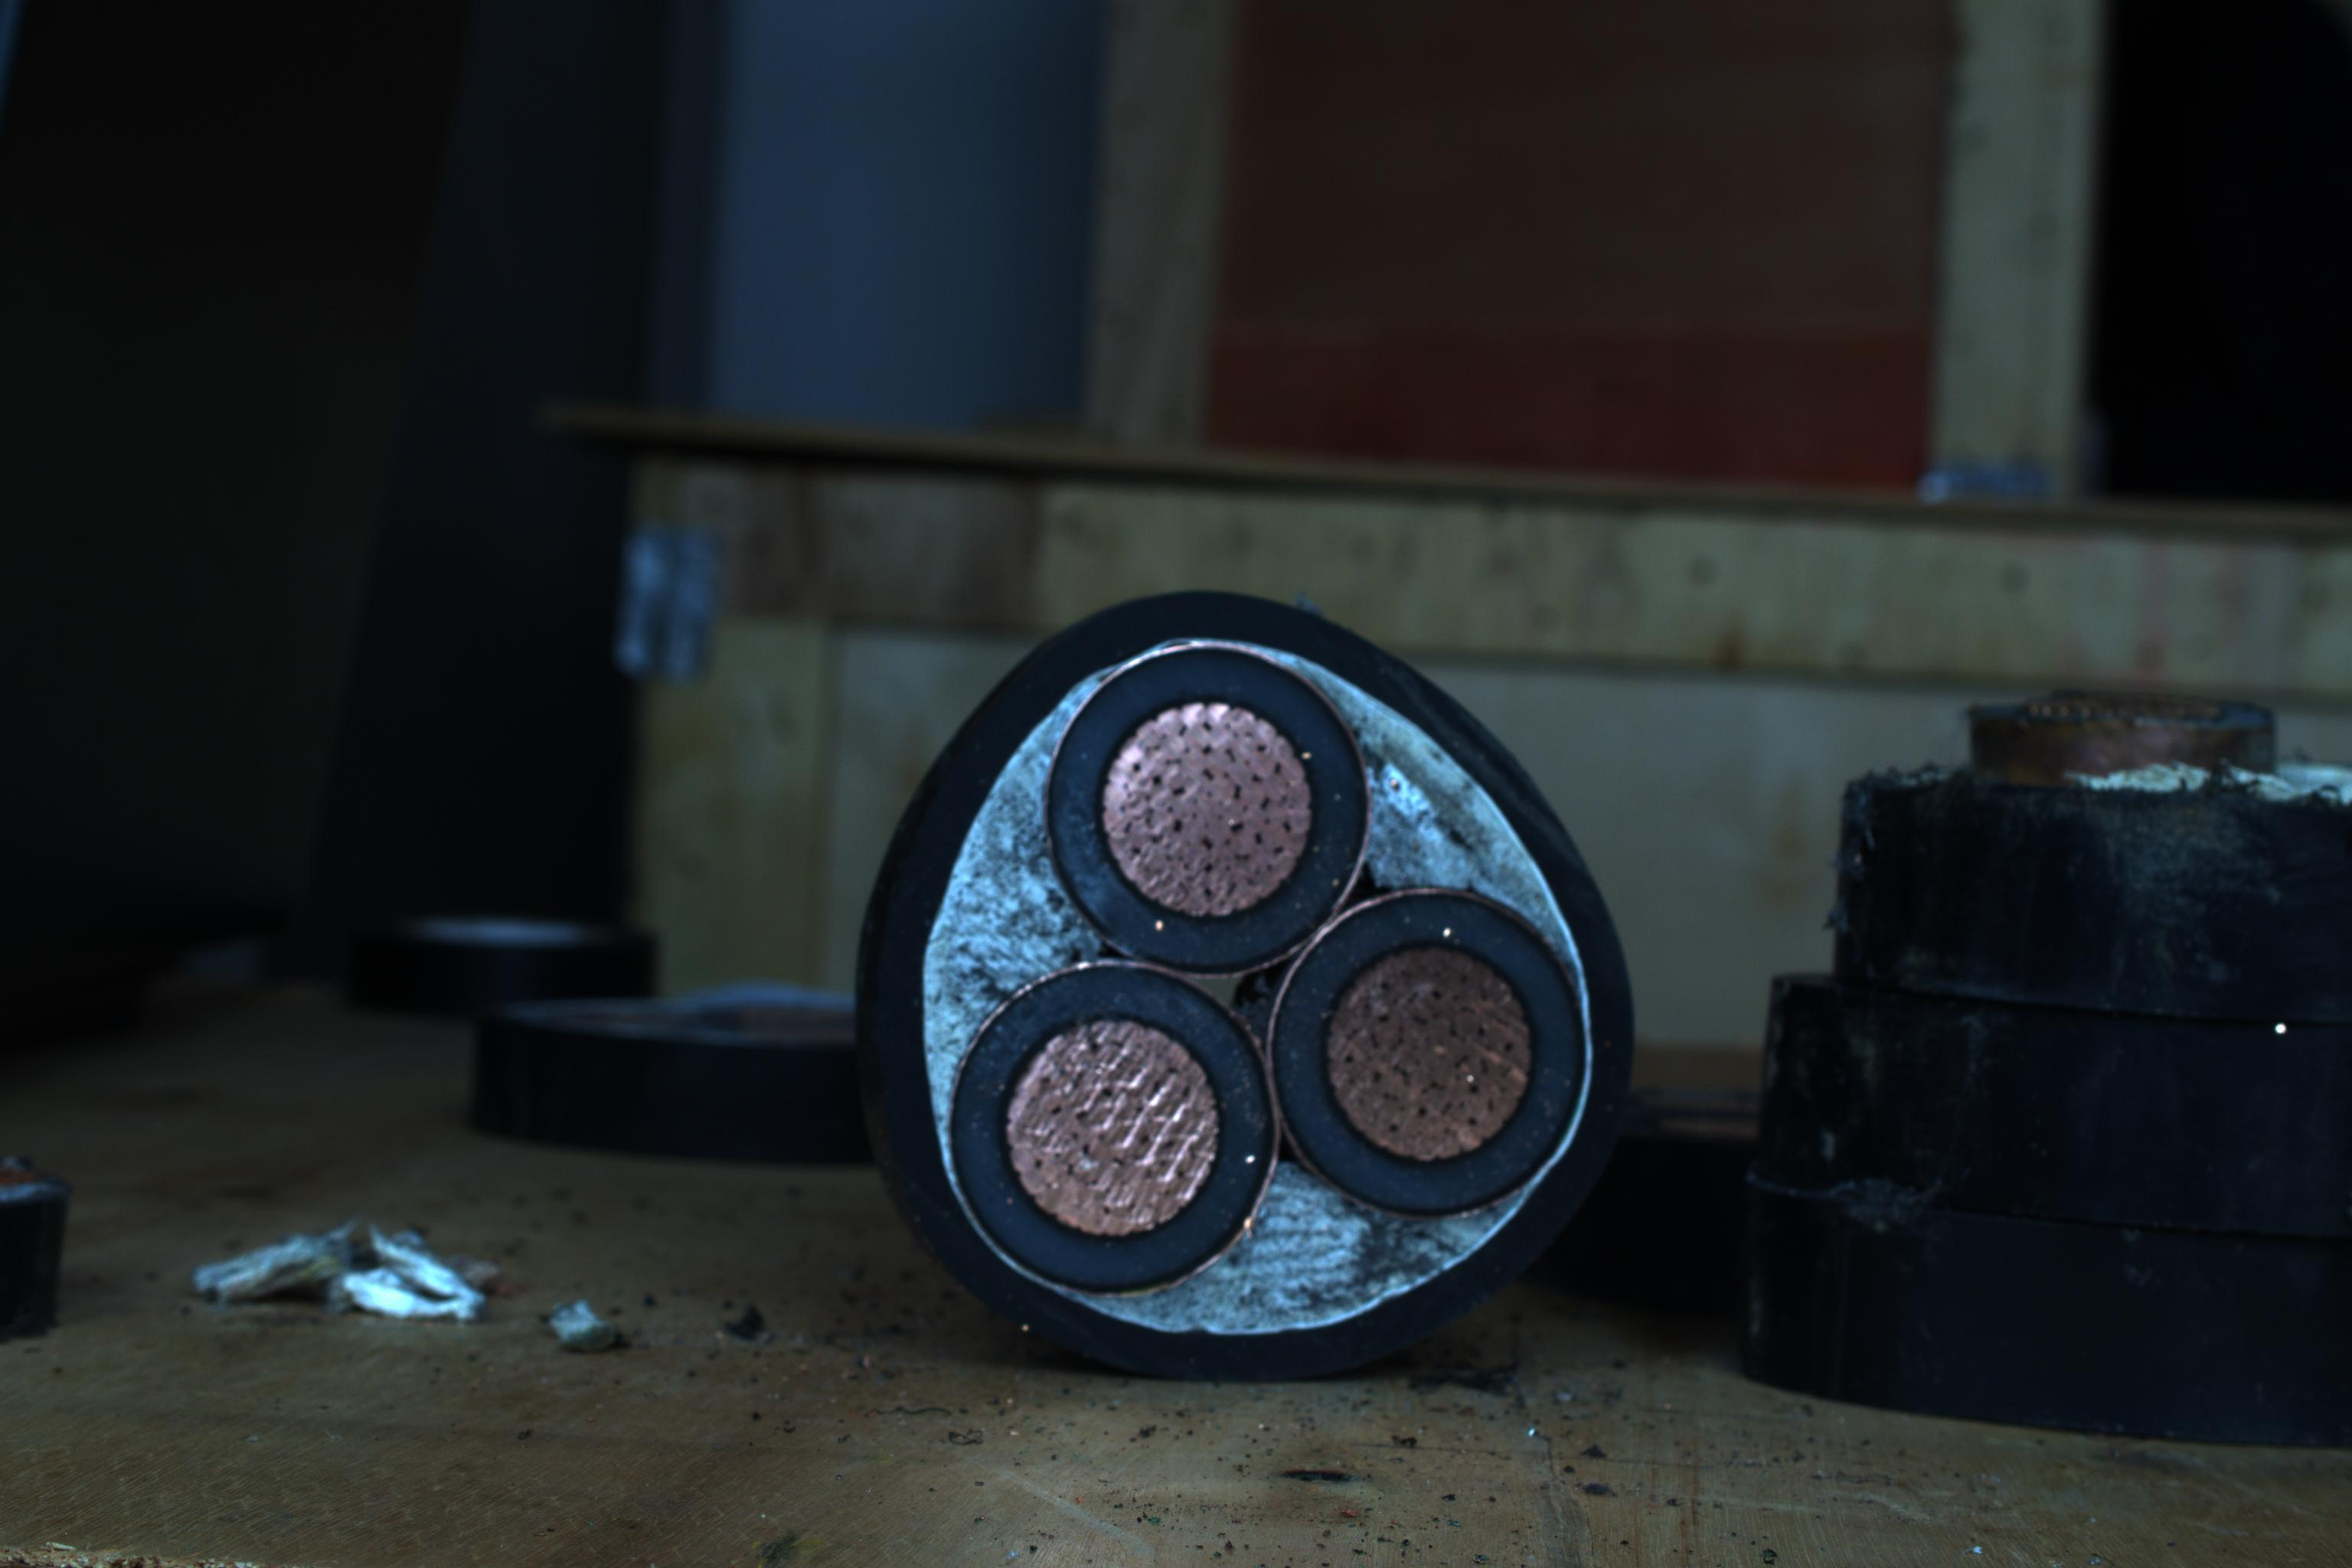ZA_YJV_8.7_10kV_3x400: (875, 593, 1648, 1360)
